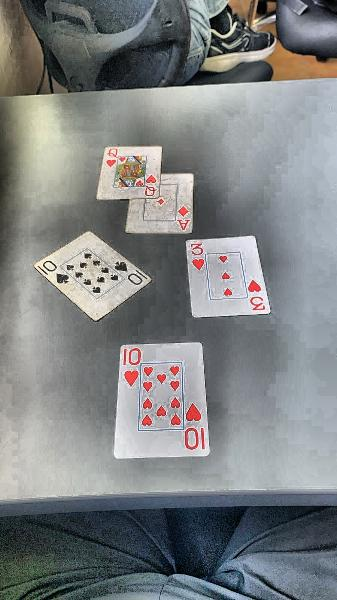10C: (183, 402, 206, 452), (123, 347, 142, 389)
10P: (114, 260, 149, 285), (37, 260, 70, 285)
3C: (248, 279, 267, 312), (190, 242, 205, 271)
AD: (177, 205, 191, 231)
QC: (144, 174, 158, 197), (107, 147, 119, 168)
